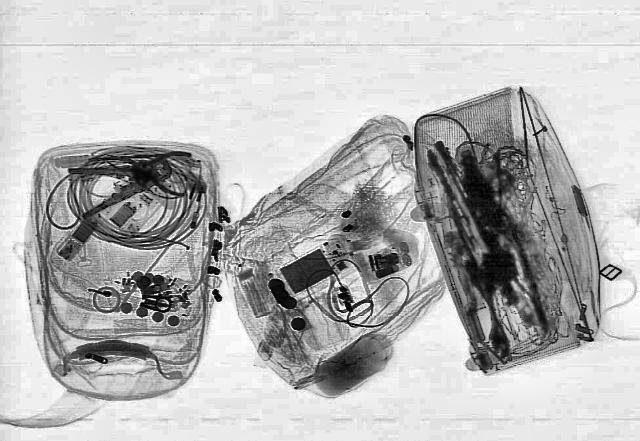Pliers: (52, 146, 184, 218), (97, 139, 197, 196)
